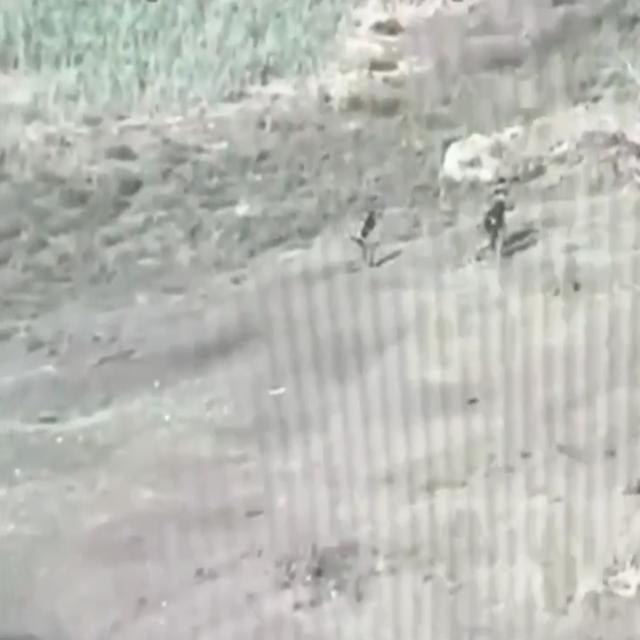infantry: (484, 192, 509, 260), (352, 206, 381, 262)
